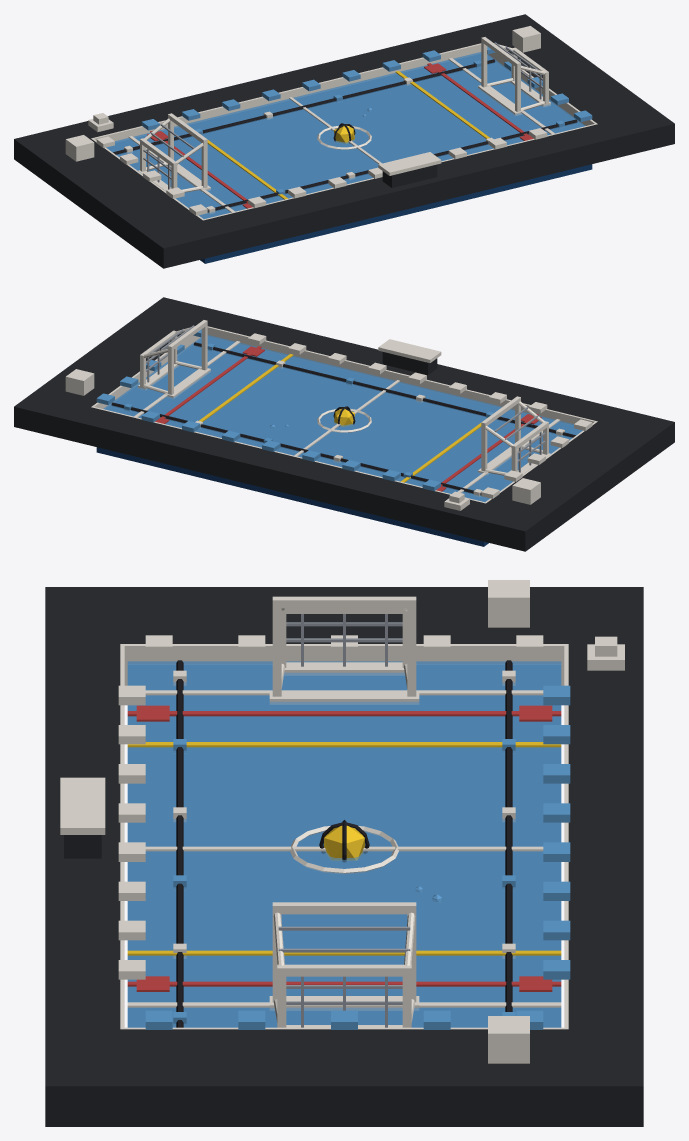
The model's file is waterpolo_scene_mobile.glb.
3 renders of one model, top to bottom at view 1: azimuth 30°, elevation 25°; view 2: azimuth 150°, elevation 25°; view 3: azimuth 270°, elevation 25°, orthographic. The views are drawn at different scales.
Visible parts, largest first — view 1: PROP_pool_deck, PROP_water_surface, PROP_water, PROP_pool_walls, PROP_waterpolo_goal_01, PROP_waterpolo_goal_00, PROP_lane_rope_01, PROP_officials_table, PROP_lane_rope_00, PROP_goal_judge_seat_00, PROP_goal_judge_seat_01, PROP_line_2m_01 (+1 smaller); view 2: PROP_pool_deck, PROP_water_surface, PROP_water, PROP_pool_walls, PROP_waterpolo_goal_01, PROP_waterpolo_goal_00, PROP_lane_rope_00, PROP_officials_table, PROP_lane_rope_01, PROP_goal_judge_seat_01, PROP_goal_judge_seat_00, PROP_line_2m_01 (+1 smaller); view 3: PROP_pool_deck, PROP_water_surface, PROP_water, PROP_waterpolo_goal_00, PROP_waterpolo_goal_01, PROP_pool_walls, PROP_officials_table, PROP_lane_rope_00, PROP_lane_rope_01, PROP_line_2m_00, PROP_line_5m_00, PROP_line_5m_01 (+9 smaller).
Part boxes in pixels (left/top/right/bottom): PROP_pool_deck: left=14, top=14, right=674, bottom=268; PROP_water_surface: left=106, top=52, right=585, bottom=218; PROP_water: left=108, top=54, right=592, bottom=263; PROP_pool_walls: left=91, top=43, right=597, bottom=220; PROP_waterpolo_goal_01: left=478, top=37, right=550, bottom=115; PROP_waterpolo_goal_00: left=138, top=113, right=210, bottom=192; PROP_lane_rope_01: left=113, top=59, right=495, bottom=154; PROP_officials_table: left=378, top=152, right=441, bottom=187; PROP_lane_rope_00: left=206, top=119, right=577, bottom=213; PROP_goal_judge_seat_00: left=65, top=135, right=94, bottom=161; PROP_goal_judge_seat_01: left=512, top=26, right=540, bottom=52; PROP_line_2m_01: left=427, top=63, right=533, bottom=139; PROP_pool_deck: left=14, top=297, right=674, bottom=551; PROP_water_surface: left=103, top=335, right=582, bottom=501; PROP_water: left=96, top=337, right=580, bottom=546; PROP_pool_walls: left=91, top=326, right=597, bottom=503; PROP_waterpolo_goal_01: left=138, top=320, right=210, bottom=398; PROP_waterpolo_goal_00: left=478, top=396, right=550, bottom=475; PROP_lane_rope_00: left=193, top=342, right=575, bottom=437; PROP_officials_table: left=378, top=339, right=441, bottom=375; PROP_lane_rope_01: left=111, top=402, right=482, bottom=496; PROP_goal_judge_seat_01: left=65, top=369, right=94, bottom=395; PROP_goal_judge_seat_00: left=512, top=478, right=540, bottom=504; PROP_line_2m_01: left=155, top=346, right=261, bottom=422; PROP_pool_deck: left=45, top=587, right=643, bottom=1126; PROP_water_surface: left=127, top=661, right=561, bottom=1027; PROP_water: left=128, top=665, right=560, bottom=1026; PROP_waterpolo_goal_00: left=269, top=596, right=419, bottom=704; PROP_waterpolo_goal_01: left=269, top=902, right=419, bottom=1027; PROP_pool_walls: left=120, top=644, right=568, bottom=1029; PROP_officials_table: left=60, top=777, right=105, bottom=858; PROP_lane_rope_00: left=173, top=660, right=186, bottom=1027; PROP_lane_rope_01: left=502, top=660, right=515, bottom=1015; PROP_line_2m_00: left=127, top=711, right=561, bottom=716; PROP_line_5m_00: left=127, top=742, right=561, bottom=747; PROP_line_5m_01: left=127, top=950, right=561, bottom=955.
Size of the model in its own units: 7.9 by 1.31 by 4.
